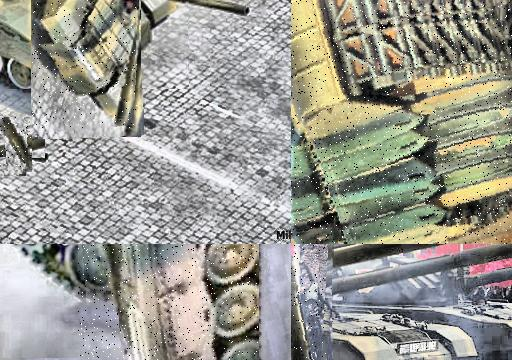tanks: (292, 1, 512, 245), (96, 245, 259, 360), (292, 265, 477, 360), (346, 269, 512, 360), (38, 1, 138, 129), (409, 245, 512, 275), (292, 259, 315, 360), (1, 119, 32, 168)
